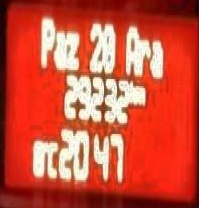0: (73, 125, 88, 180), (101, 16, 115, 73)
2: (57, 125, 72, 180), (88, 18, 101, 71), (90, 71, 102, 121), (64, 69, 77, 114), (117, 73, 128, 123)
3: (104, 75, 116, 123)
4: (92, 132, 109, 182)
7: (110, 130, 124, 183)
9: (77, 73, 90, 121)
X: (125, 23, 138, 75), (40, 14, 53, 66), (150, 36, 165, 78), (65, 27, 79, 68), (46, 132, 57, 178), (54, 27, 65, 71), (139, 33, 148, 79)
